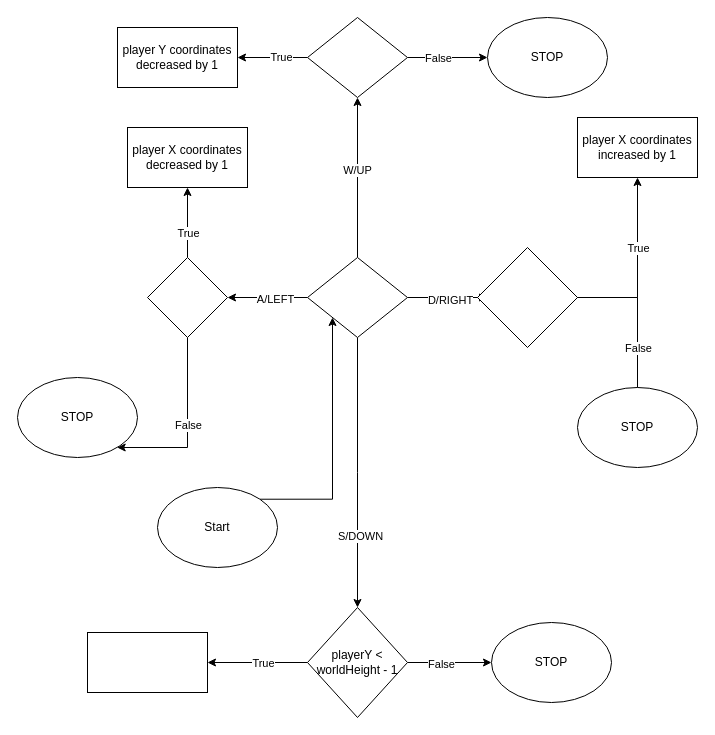
Some shapes in this 715 by 735 pixel diagram are drawn without their labels. Here are the shapes that lost their labels. From the top down, the centre of each, then its label:
point (357, 57): playerY > 0
point (187, 297): playerX > 0
point (357, 297): Enter Action
point (527, 297): playerX < worldWidth -1
point (147, 662): player Y coordinates increased by 1
